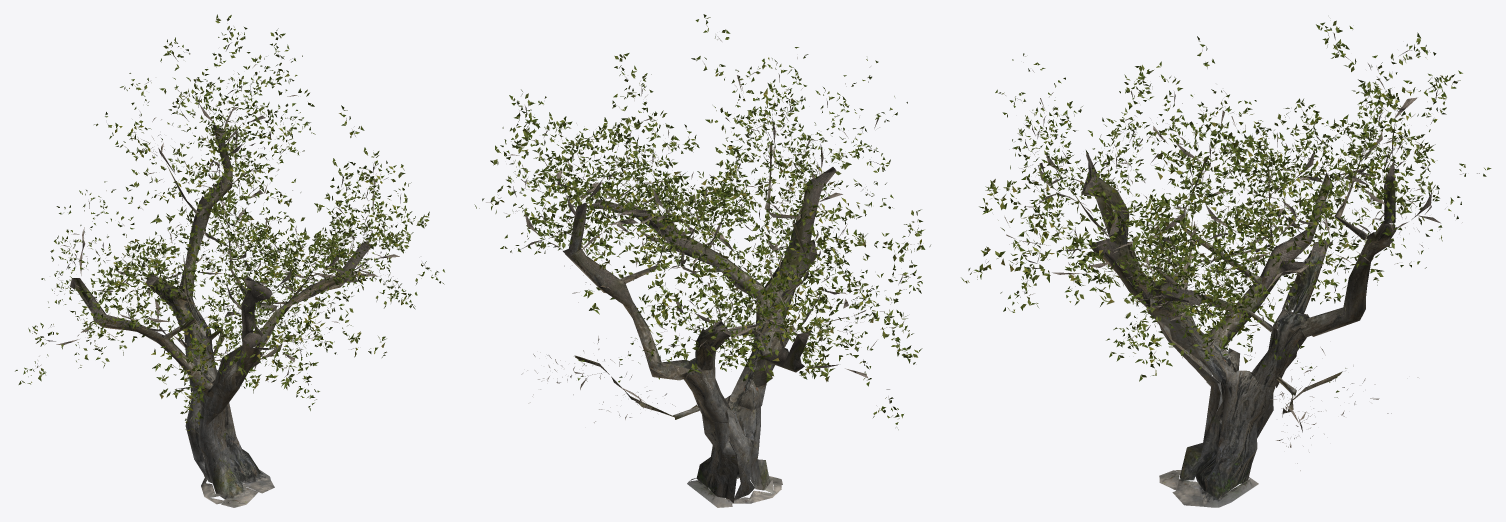
File: V_island_tree_01.glb
The picture shows the model from 3 angles, left to right: view 1: azimuth 30°, elevation 25°; view 2: azimuth 150°, elevation 25°; view 3: azimuth 270°, elevation 25°; orthographic projection. The views are drawn at different scales.
Visible parts, largest first — view 1: V_island_tree_01; view 2: V_island_tree_01; view 3: V_island_tree_01.
Part boxes in pixels (left/top/right/bottom): V_island_tree_01: left=15, top=14, right=444, bottom=507; V_island_tree_01: left=474, top=14, right=930, bottom=507; V_island_tree_01: left=961, top=20, right=1491, bottom=507.
Size of the model in its own units: 4.71 by 4.99 by 4.8.
3 materials, 3 textured.
